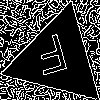F: (32, 33, 74, 86)
